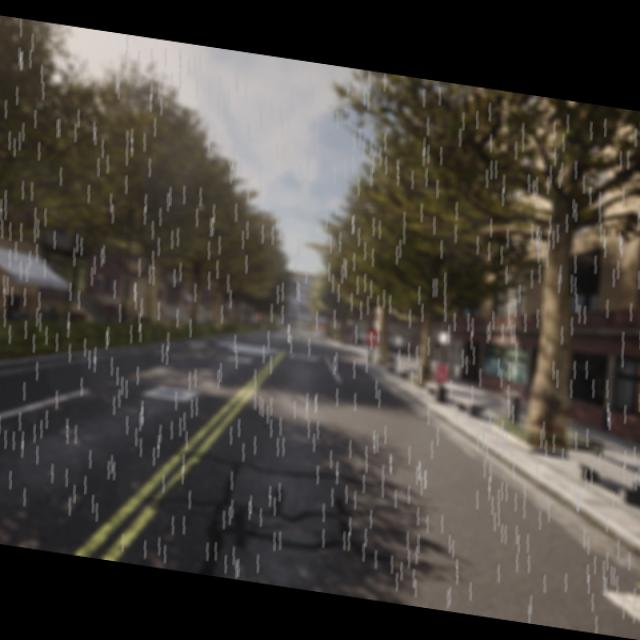stop sign: (362, 323, 382, 350)
